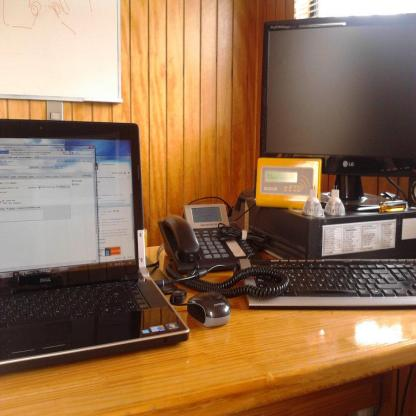board: (0, 114, 189, 373), (356, 200, 406, 213)
